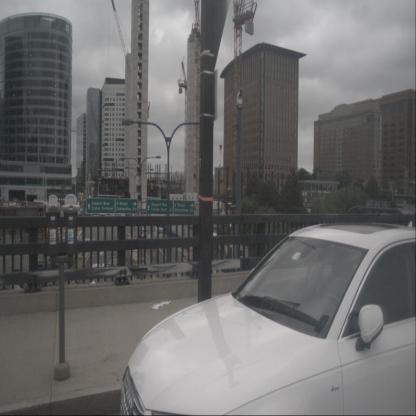vehicle-car: (119, 222, 416, 416), (153, 227, 165, 243), (139, 228, 148, 239)
